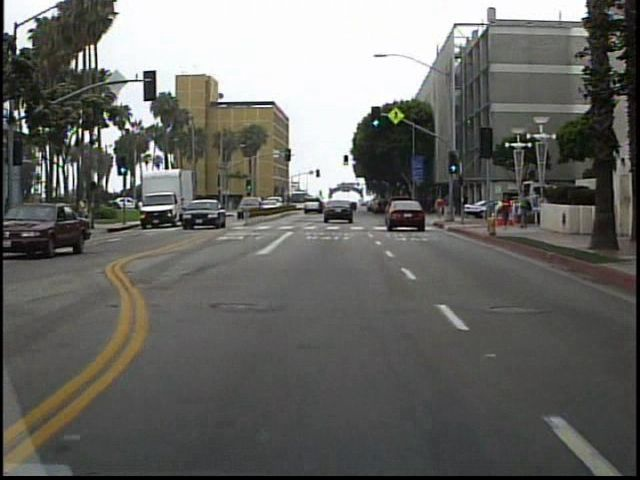person: (74, 194, 92, 238), (432, 194, 447, 219)
